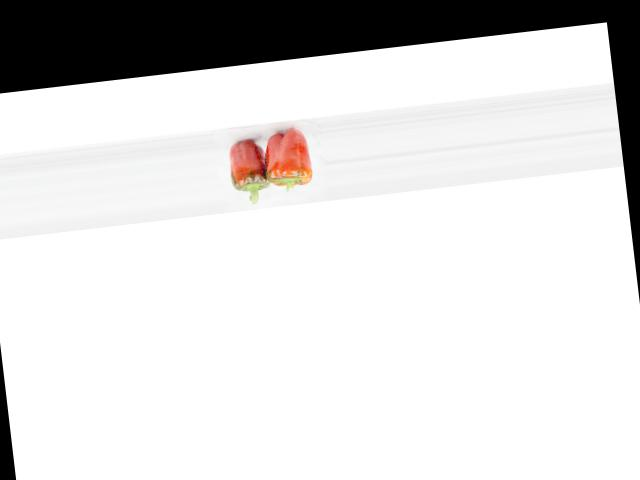bell_pepper: (262, 125, 322, 196)
